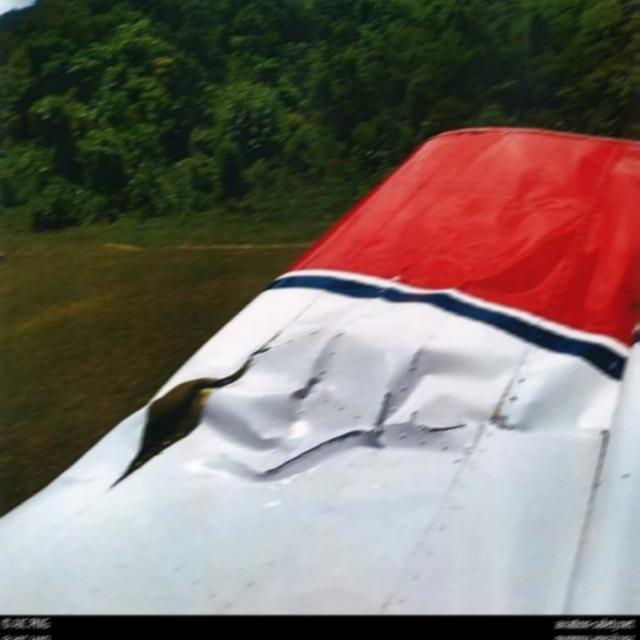crack: (265, 422, 381, 474), (372, 383, 402, 437), (415, 418, 463, 437), (409, 342, 432, 379)
